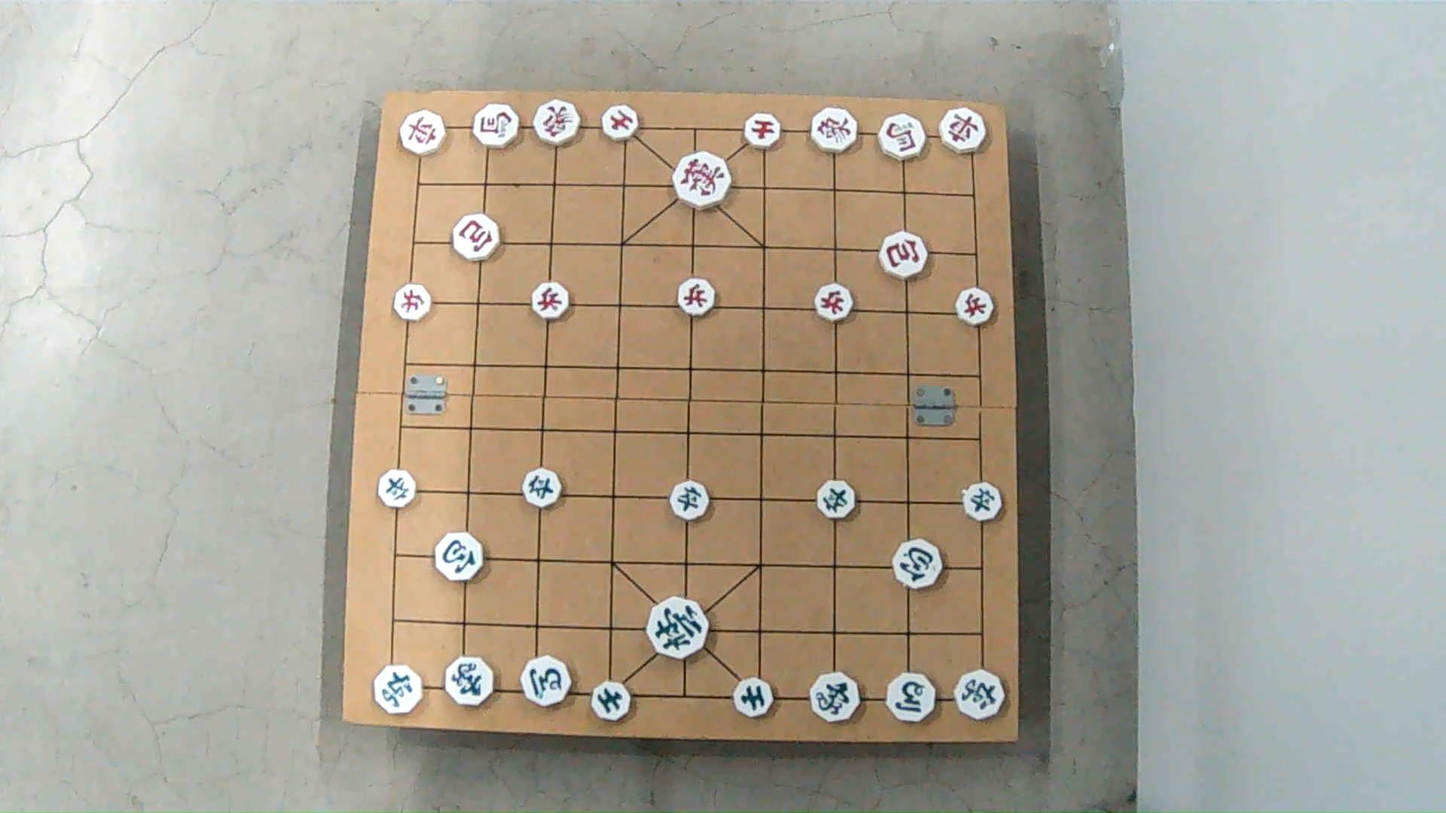cha_green: (957, 667, 1005, 725), (374, 665, 424, 713)
cha_red: (398, 111, 447, 154), (938, 110, 987, 153)
jol_green: (814, 481, 856, 519), (667, 482, 709, 519), (959, 481, 1001, 518), (523, 470, 563, 507), (378, 472, 417, 508)
jol_red: (813, 287, 854, 323), (531, 285, 571, 321), (679, 281, 719, 316), (953, 290, 993, 325), (392, 287, 432, 322)
ma_green: (885, 671, 940, 723), (521, 656, 572, 705)
ma_red: (880, 116, 928, 159), (474, 104, 520, 146)
po_green: (434, 533, 485, 580), (891, 543, 940, 589)
po_red: (880, 233, 929, 279), (451, 215, 500, 260)
sa_green: (593, 679, 630, 722), (734, 681, 776, 717)
sa_red: (601, 107, 640, 141), (742, 114, 782, 147)
sang_green: (444, 652, 496, 710), (808, 670, 861, 726)
sang_red: (811, 105, 858, 156), (532, 97, 580, 145)
wang_green: (648, 600, 709, 659)
wang_red: (673, 154, 733, 207)
